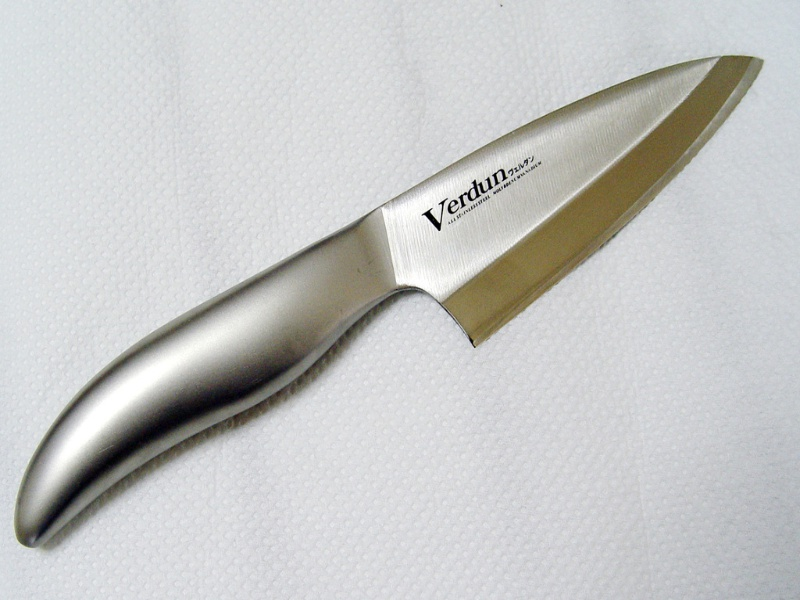wine: (1, 256, 800, 591)
